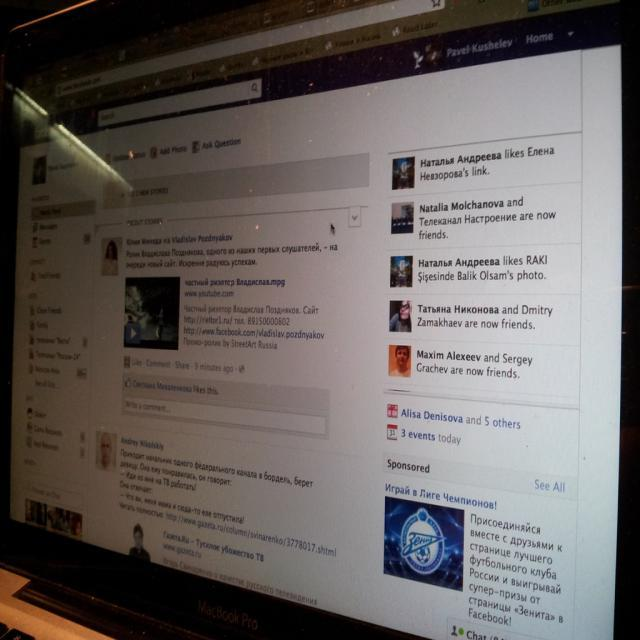others: (2, 4, 638, 634)
